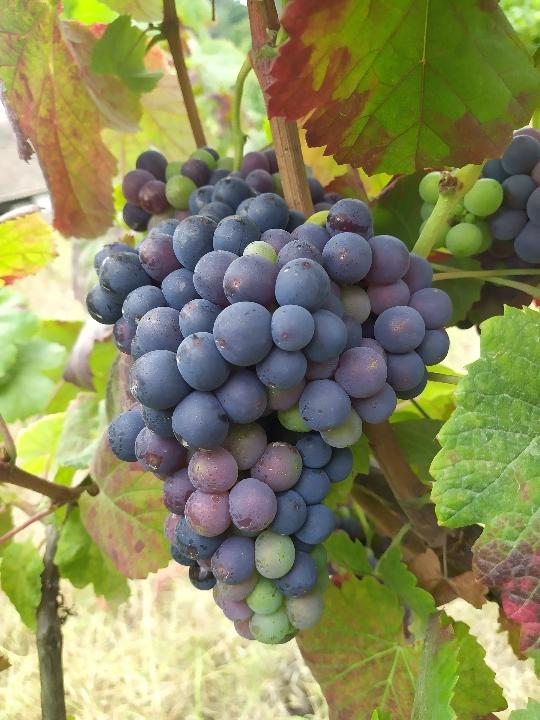grape: (86, 191, 455, 643)
